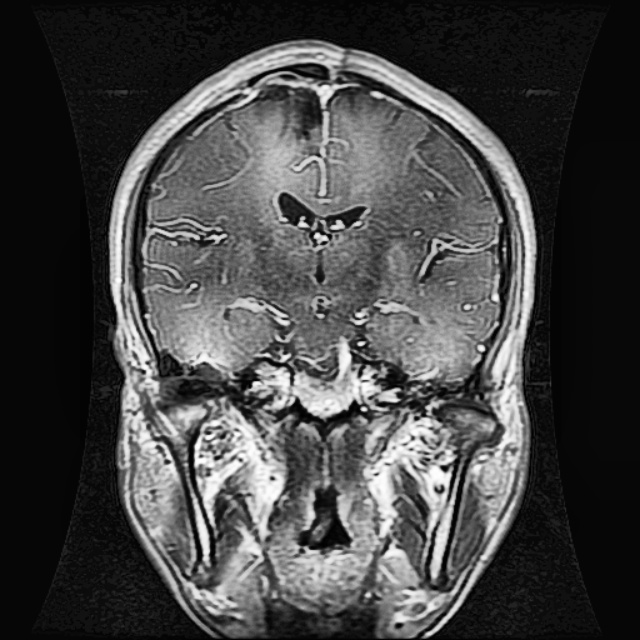Meningioma: (258, 85, 328, 137)
